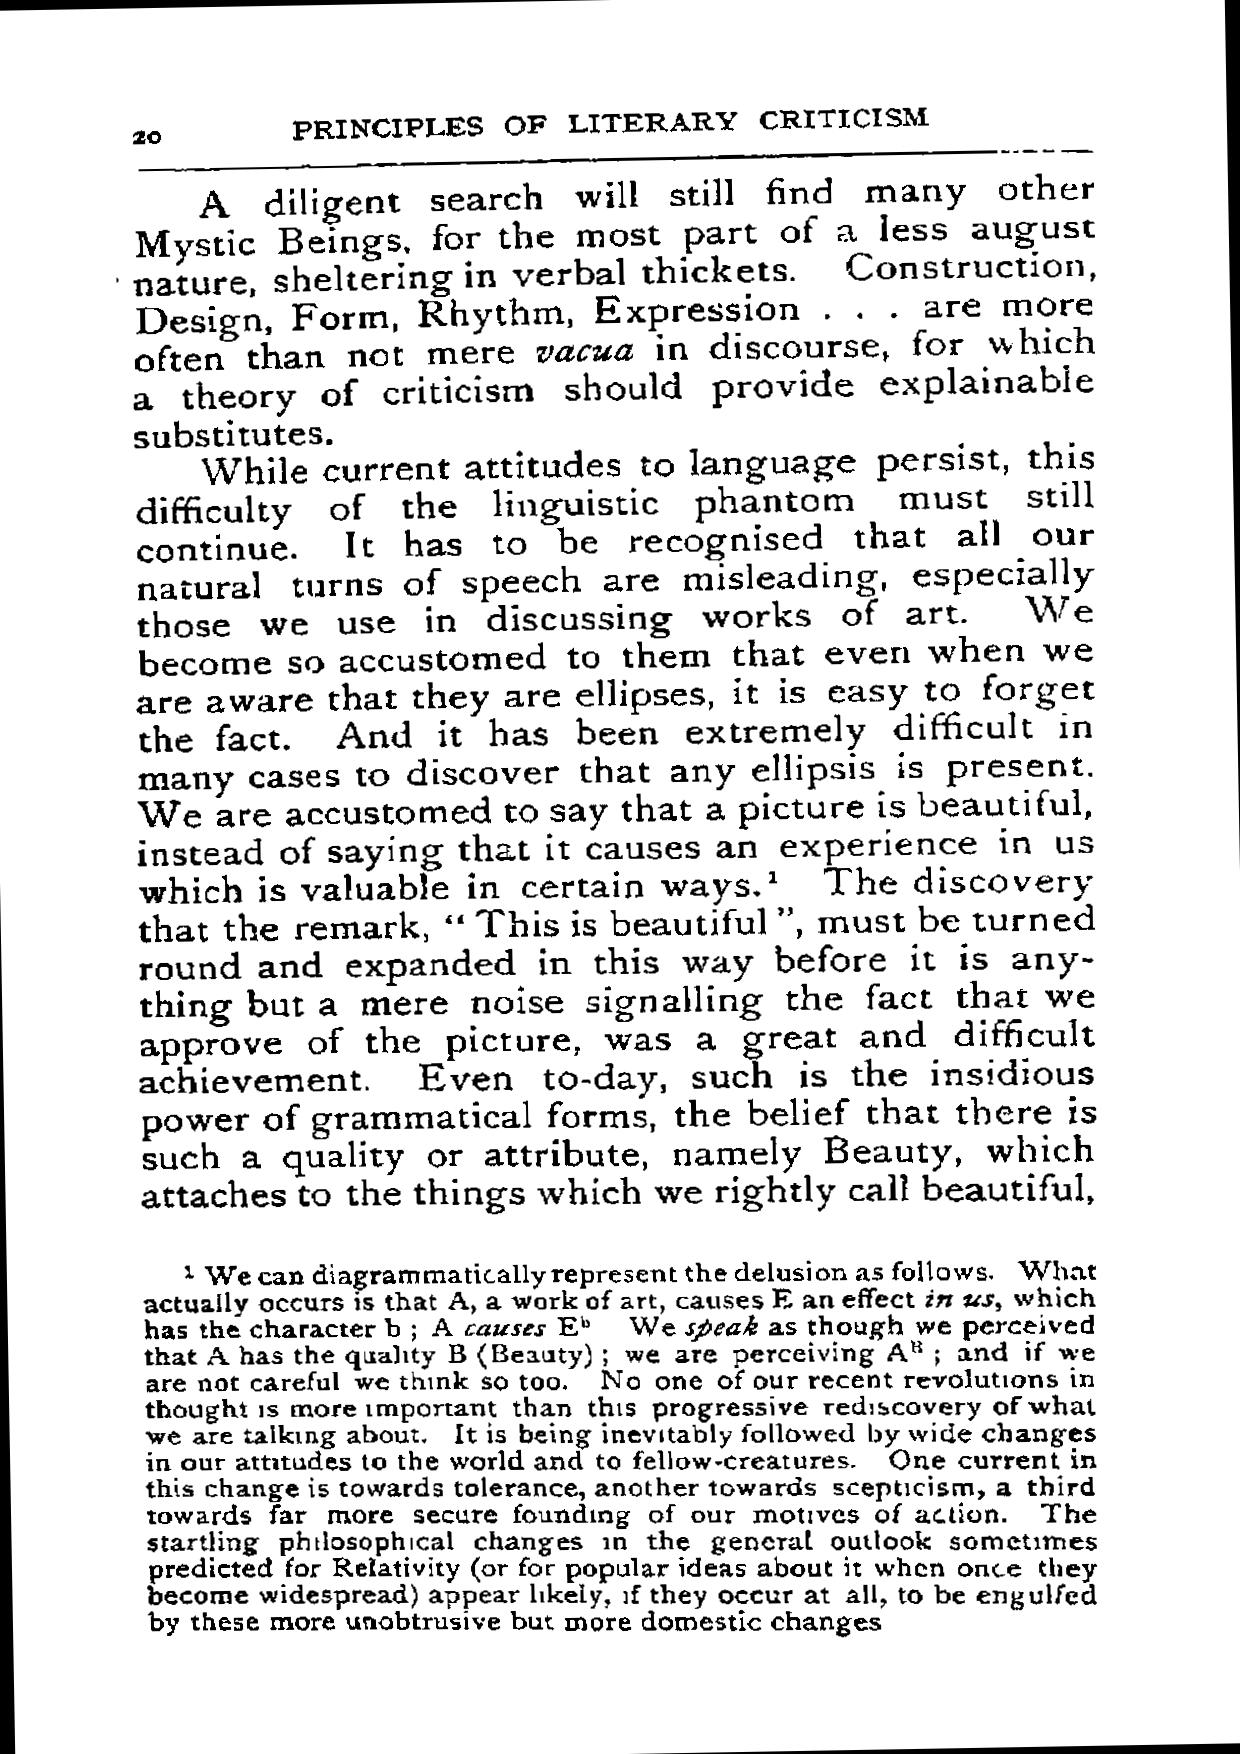content: (119, 187, 1096, 1224), (137, 1256, 1100, 1639)
content_chapter: (283, 105, 931, 140)
content_pagenumber: (127, 127, 164, 148)
